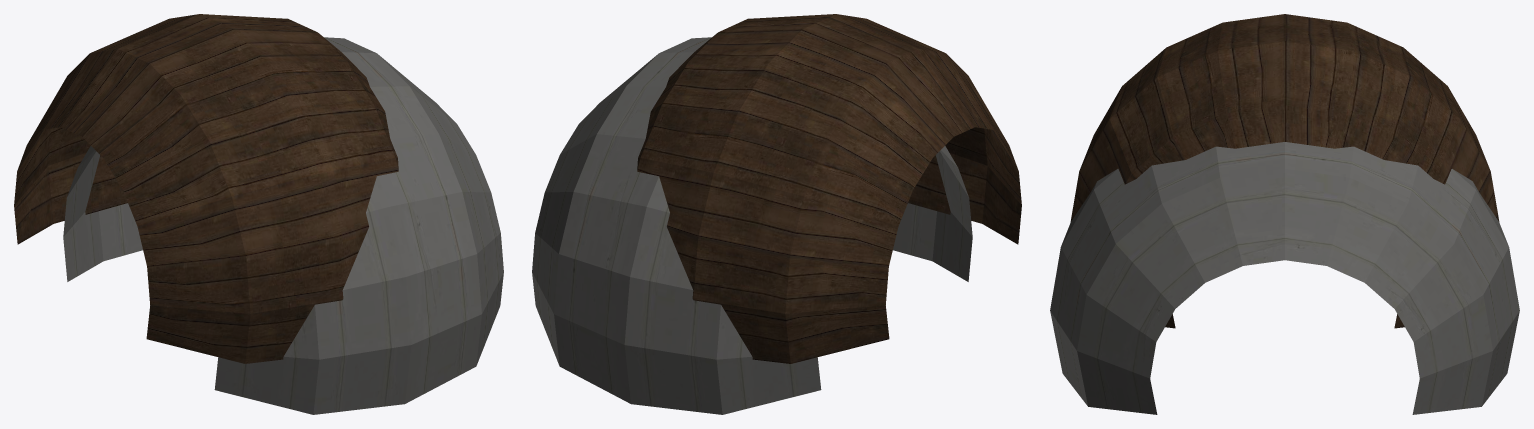
Rendered from eq_past_1_shoulder.glb.
3 views of the same model, side by side, from view 1: azimuth 30°, elevation 25°; view 2: azimuth 150°, elevation 25°; view 3: azimuth 270°, elevation 25° (orthographic).
Parts seen in each view (by area): view 1: eq_past_1_shoulder; view 2: eq_past_1_shoulder; view 3: eq_past_1_shoulder.
Boxes of the visible parts, x1,y1,x2,y2 form: eq_past_1_shoulder: (14, 14, 503, 414); eq_past_1_shoulder: (532, 14, 1021, 414); eq_past_1_shoulder: (1050, 14, 1519, 414).
Bounding box in the file's own units: 0.21 × 0.174 × 0.244.
2 materials, 2 textured.
